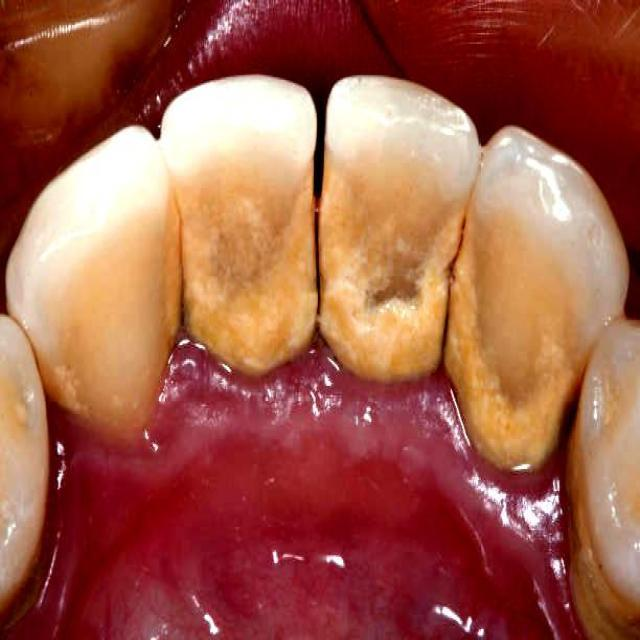calculus: (444, 127, 628, 469), (7, 126, 181, 434), (319, 77, 478, 381), (158, 75, 317, 374), (568, 320, 639, 638)
